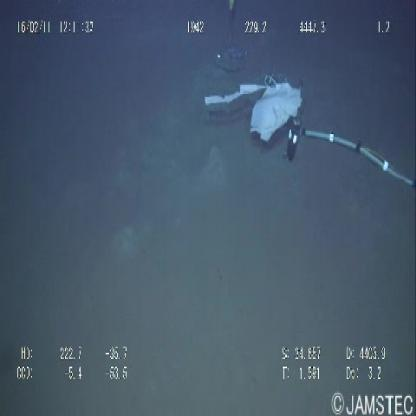Rác: (199, 74, 302, 145)
